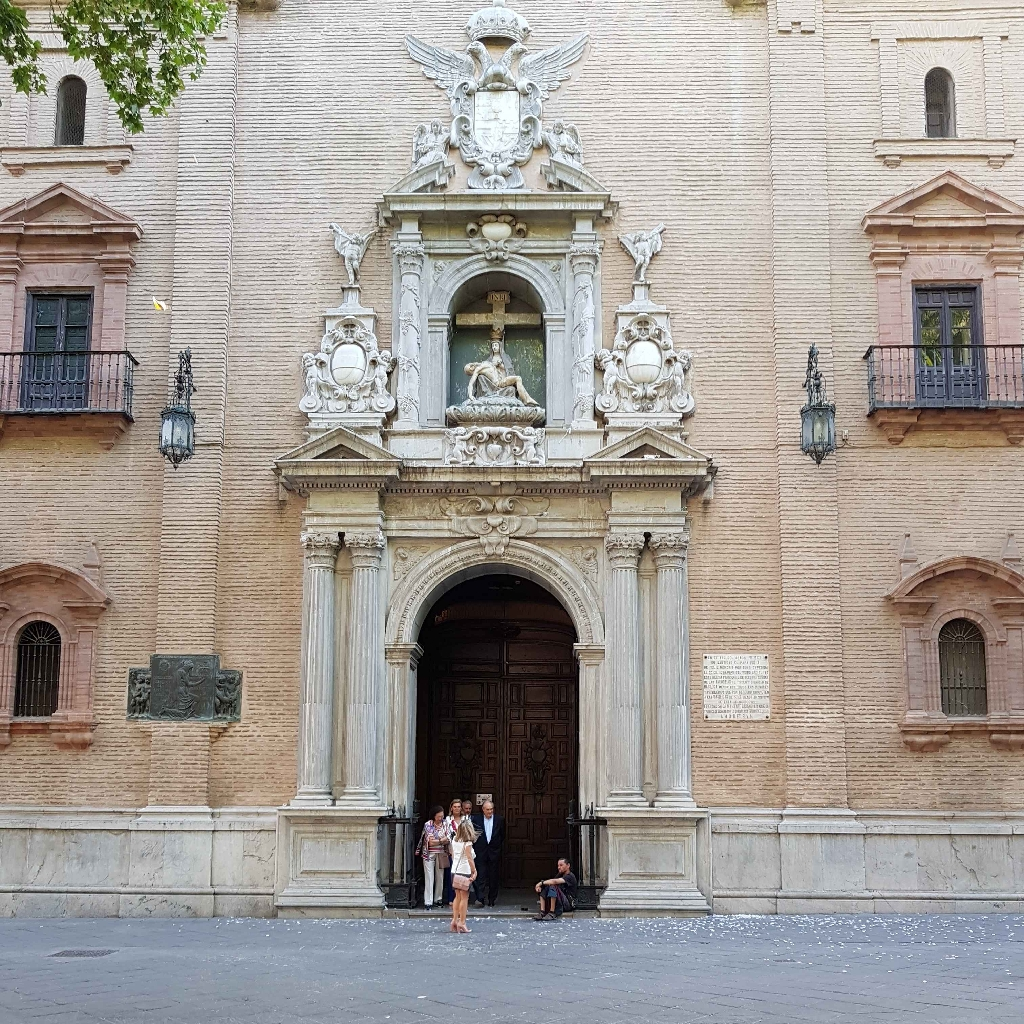arco-medio-punto: (404, 549, 591, 674), (439, 261, 553, 337)
fronton: (859, 169, 1024, 227), (2, 176, 142, 233), (582, 422, 713, 472), (267, 425, 401, 472)
fronton-partido: (380, 156, 606, 209), (876, 546, 1024, 616), (1, 559, 112, 626)
vano-adintelado: (890, 258, 1003, 401), (11, 261, 113, 409)
